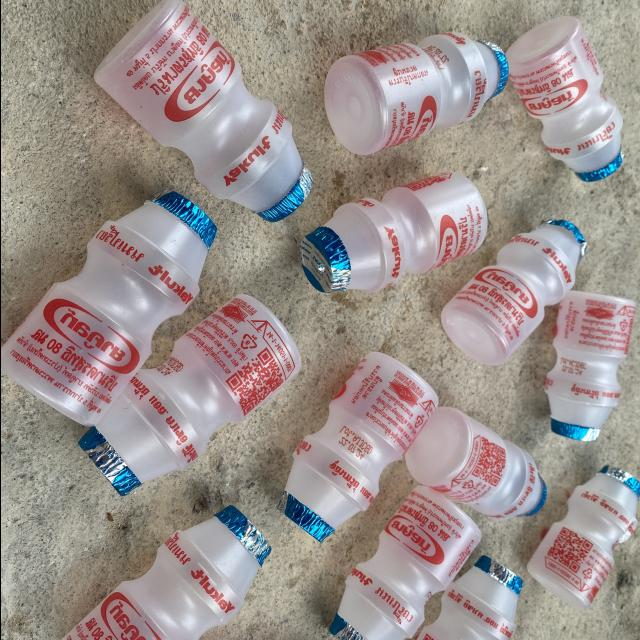plastik: (0, 192, 215, 427), (93, 0, 312, 221), (79, 294, 300, 496), (279, 352, 436, 541), (61, 505, 270, 640), (330, 486, 480, 640), (324, 32, 507, 155), (300, 172, 486, 293), (440, 220, 586, 365), (505, 16, 623, 182), (527, 466, 640, 609), (405, 407, 545, 518), (544, 290, 634, 440), (415, 558, 522, 640)
